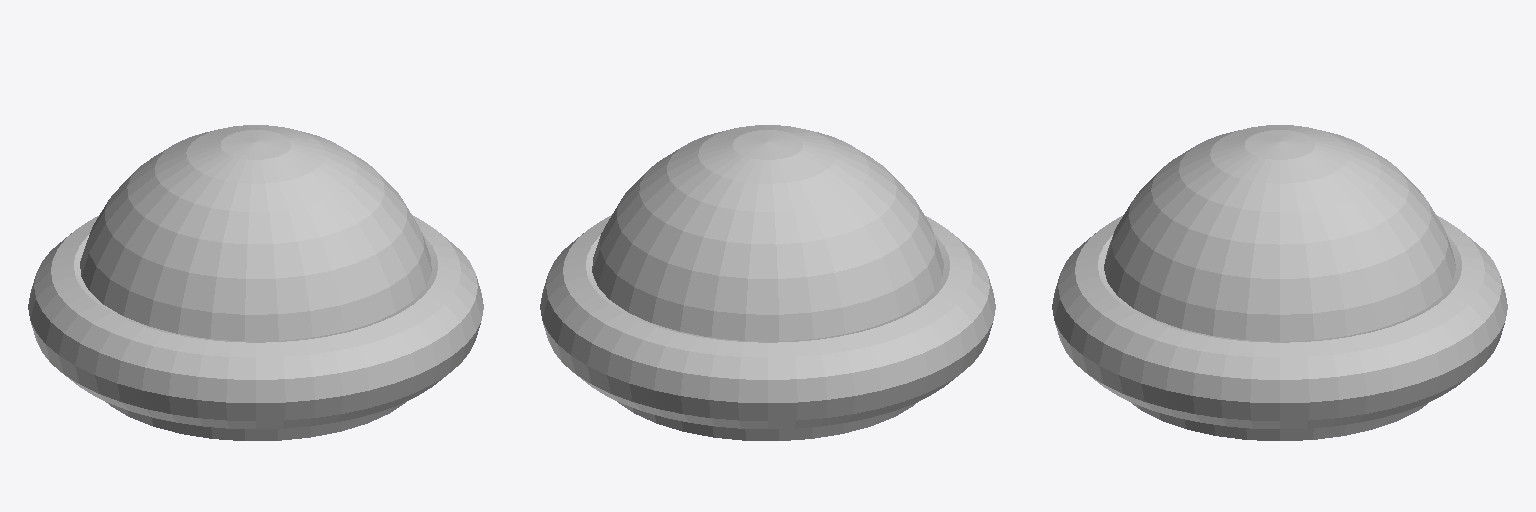
File: nave.obj
3 views of the same model, side by side, from view 1: azimuth 30°, elevation 25°; view 2: azimuth 150°, elevation 25°; view 3: azimuth 270°, elevation 25° (orthographic).
Parts seen in each view (by area): view 1: Torus; view 2: Torus; view 3: Torus.
Part boxes in pixels (bbox=[...]): Torus: bbox=[28, 125, 483, 440]; Torus: bbox=[540, 125, 995, 440]; Torus: bbox=[1052, 125, 1507, 440].
Size of the model in its own units: 2.5 by 1.38 by 2.5.